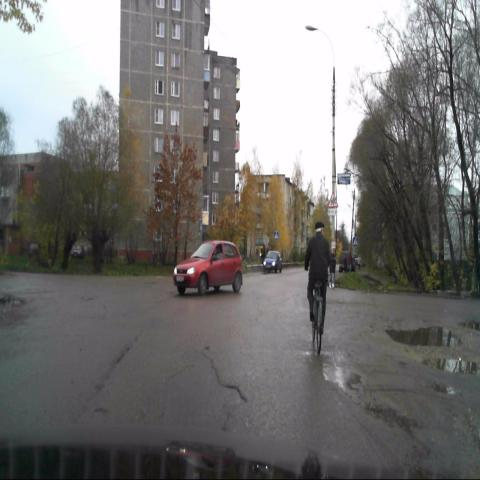1_23: (328, 191, 338, 206)
